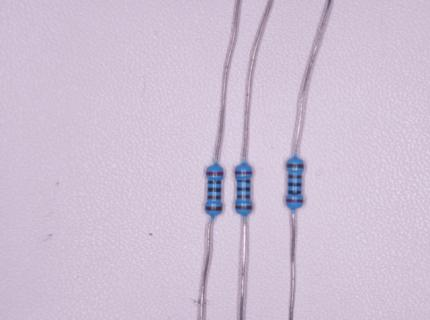Black band: (288, 182, 302, 187), (207, 188, 221, 192), (237, 180, 251, 184), (237, 187, 250, 191), (288, 190, 301, 194), (208, 181, 222, 184)
Brown band: (205, 206, 222, 211), (235, 205, 252, 210), (287, 164, 304, 168), (288, 175, 302, 179), (208, 195, 220, 199), (237, 195, 251, 198)
Red band: (206, 172, 224, 176), (235, 171, 253, 175), (286, 199, 304, 203)
